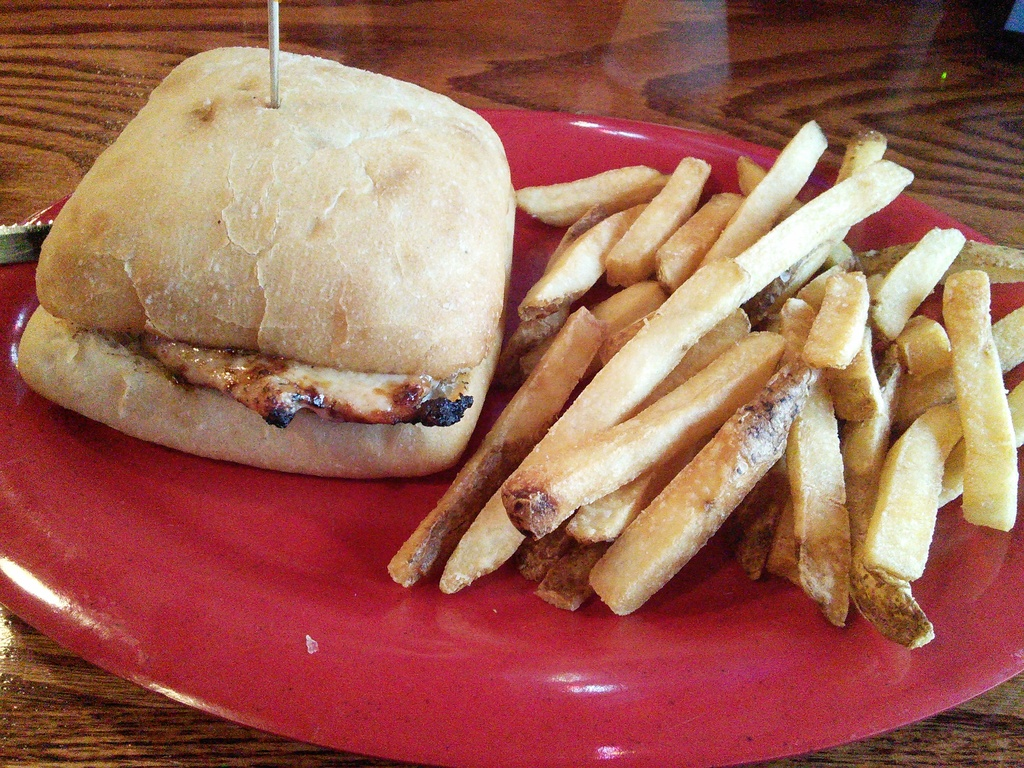French fries: (391, 111, 1016, 652)
